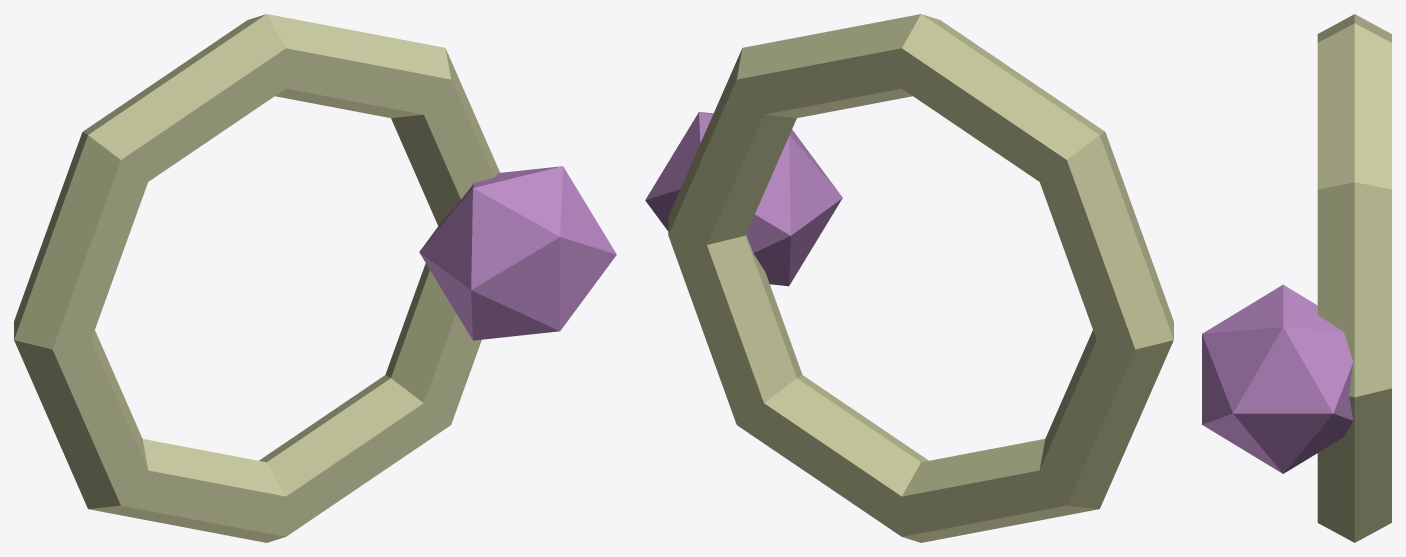
3 views of the same model, side by side, from view 1: azimuth 30°, elevation 25°; view 2: azimuth 150°, elevation 25°; view 3: azimuth 270°, elevation 25° (orthographic). The views are drawn at different scales.
Parts seen in each view (by area): view 1: part0, part1; view 2: part0, part1; view 3: part0, part1.
Part boxes in pixels (x1,y1,x2,y2): part0: (14,14,499,542); part1: (419,166,616,340); part0: (668,14,1173,542); part1: (645,112,842,286); part0: (1317,14,1391,542); part1: (1202,284,1353,473).
Bounding box in the file's own units: 2.52 × 2.36 × 0.7961.
